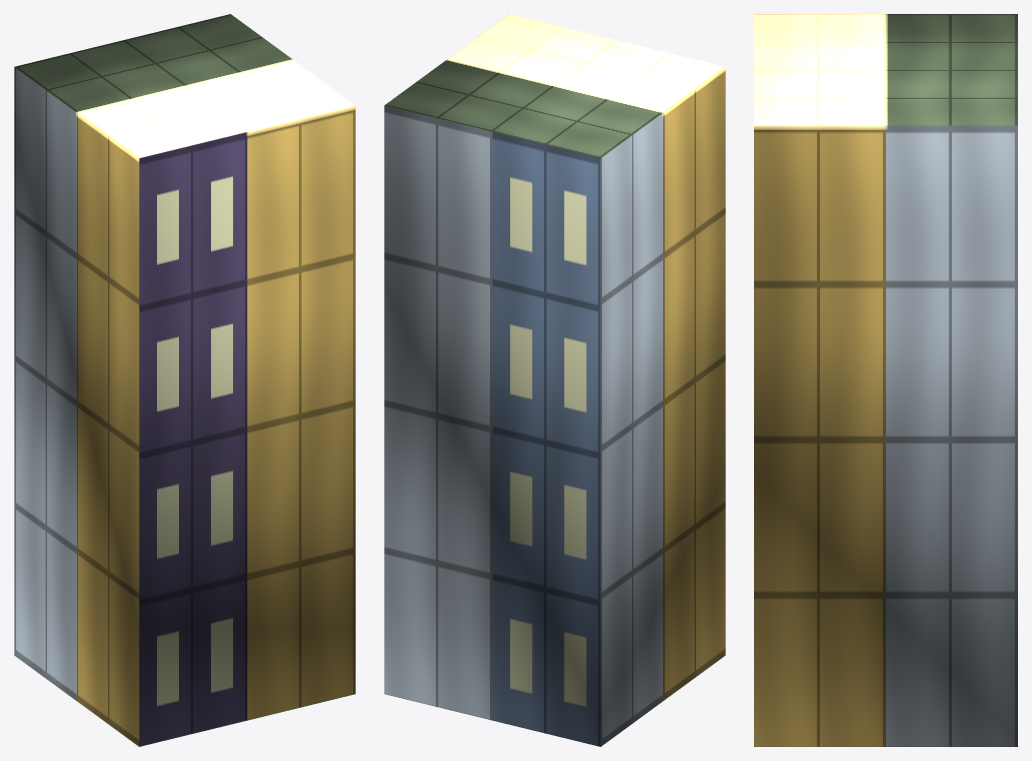
Rendered from building_b.glb.
3 views of the same model, side by side, from view 1: azimuth 30°, elevation 25°; view 2: azimuth 150°, elevation 25°; view 3: azimuth 270°, elevation 25° (orthographic). The views are drawn at different scales.
Parts seen in each view (by area): view 1: col; view 2: col; view 3: col.
Boxes of the visible parts, x1=… form: col: x1=14, y1=14, x2=355, y2=746; col: x1=384, y1=14, x2=725, y2=746; col: x1=754, y1=14, x2=1017, y2=746.
Size of what is drawn, in the model's own units: 4.19 by 10.9 by 4.19.
Materials: 1 (1 with a texture image).
